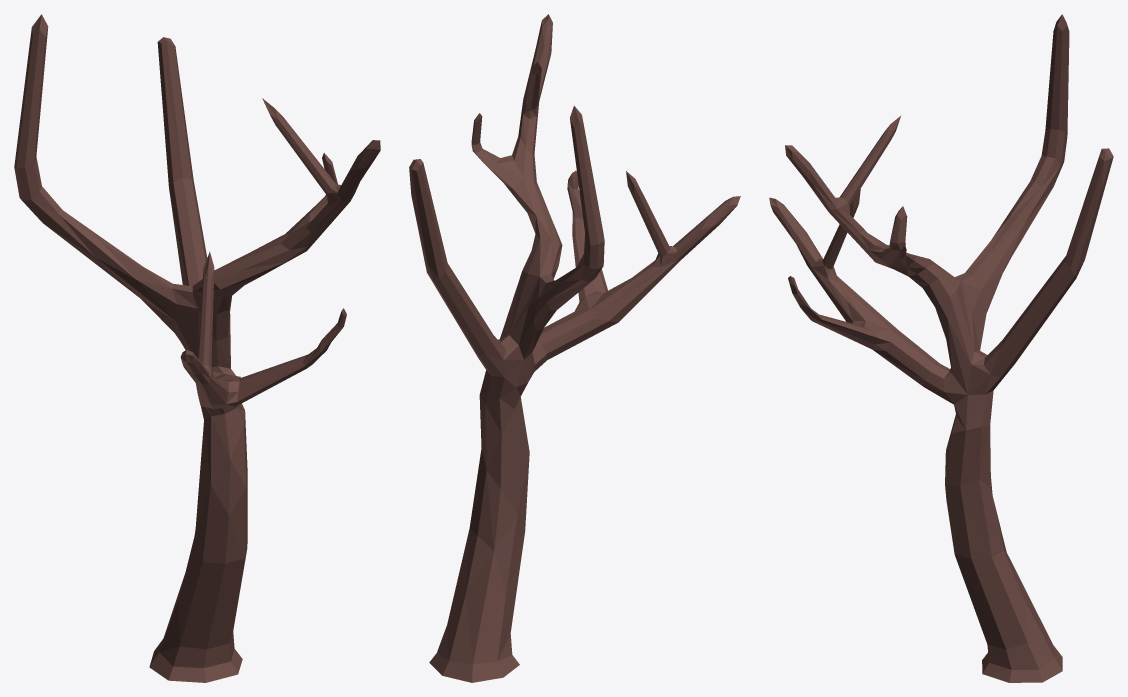
File: CommonTree_Dead_5.lod1.glb
3 views of the same model, side by side, from view 1: azimuth 30°, elevation 25°; view 2: azimuth 150°, elevation 25°; view 3: azimuth 270°, elevation 25° (orthographic). The views are drawn at different scales.
Parts seen in each view (by area): view 1: CommonTree_Dead_5; view 2: CommonTree_Dead_5; view 3: CommonTree_Dead_5.
Boxes of the visible parts, x1,y1,x2,y2 form: CommonTree_Dead_5: [14, 14, 380, 682]; CommonTree_Dead_5: [409, 14, 740, 682]; CommonTree_Dead_5: [769, 14, 1113, 682].
Size of the model in its own units: 0.8461 by 2.3 by 1.2.
